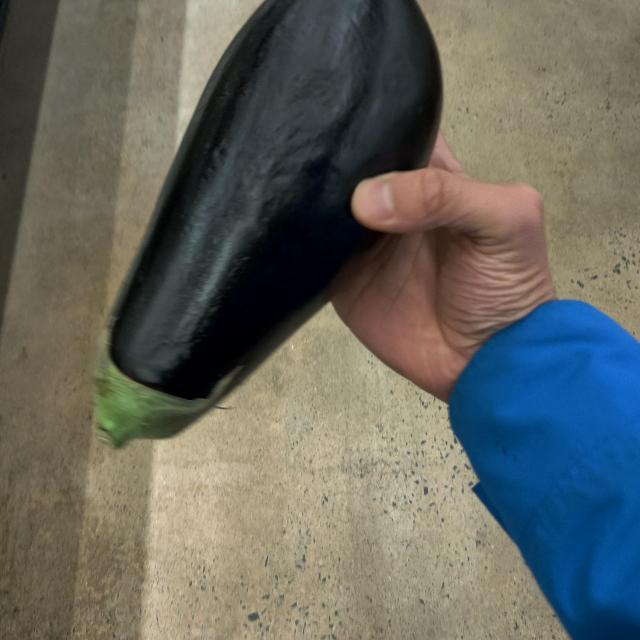Egg Plant: (79, 0, 444, 463)
